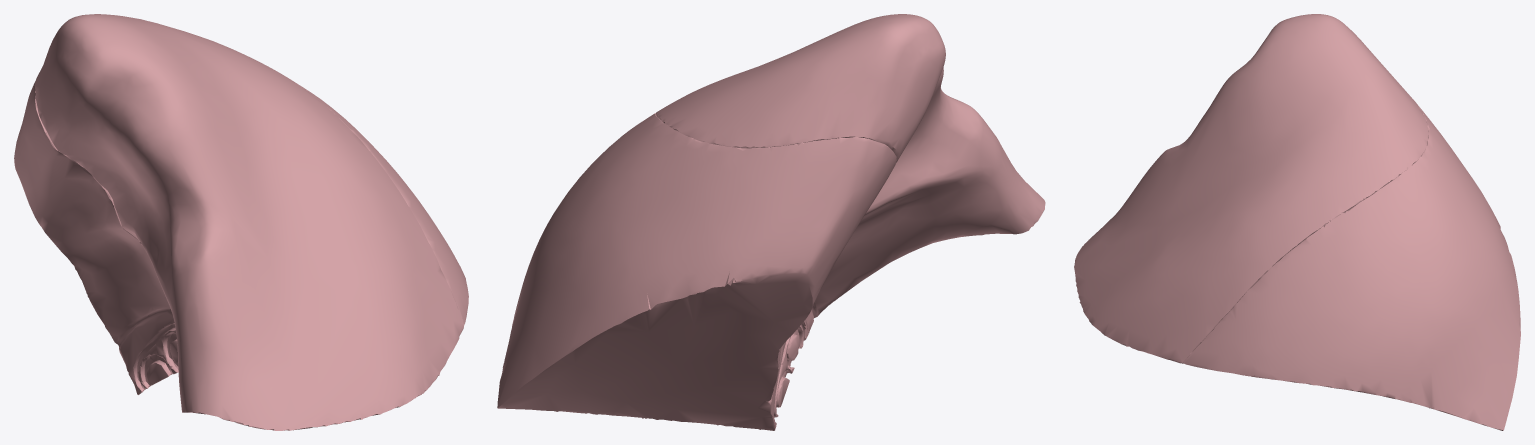
Rendered from fma27368_cx55.glb.
The picture shows the model from 3 angles, left to right: view 1: azimuth 30°, elevation 25°; view 2: azimuth 150°, elevation 25°; view 3: azimuth 270°, elevation 25°; orthographic projection. The views are drawn at different scales.
Parts seen in each view (by area): view 1: FMA27368_CX55; view 2: FMA27368_CX55; view 3: FMA27368_CX55.
Boxes of the visible parts, x1,y1,x2,y2 form: FMA27368_CX55: [14, 14, 468, 430]; FMA27368_CX55: [497, 14, 1045, 430]; FMA27368_CX55: [1074, 14, 1520, 430].
Bounding box in the file's own units: 0.0838 × 0.0885 × 0.1098.
